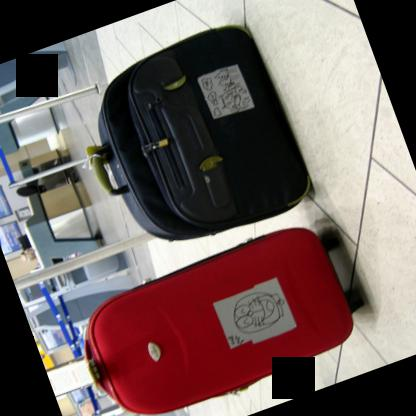suitcase: (80, 224, 365, 414), (88, 22, 314, 240)
